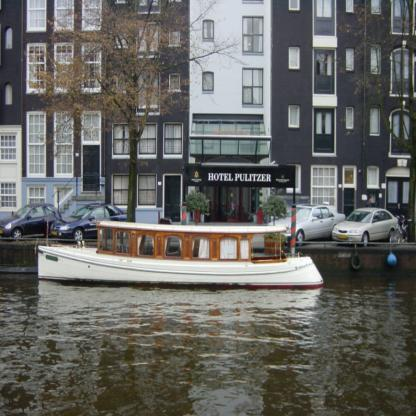Car: (58, 205, 136, 244), (272, 205, 344, 246), (334, 209, 403, 246), (2, 205, 64, 243)
